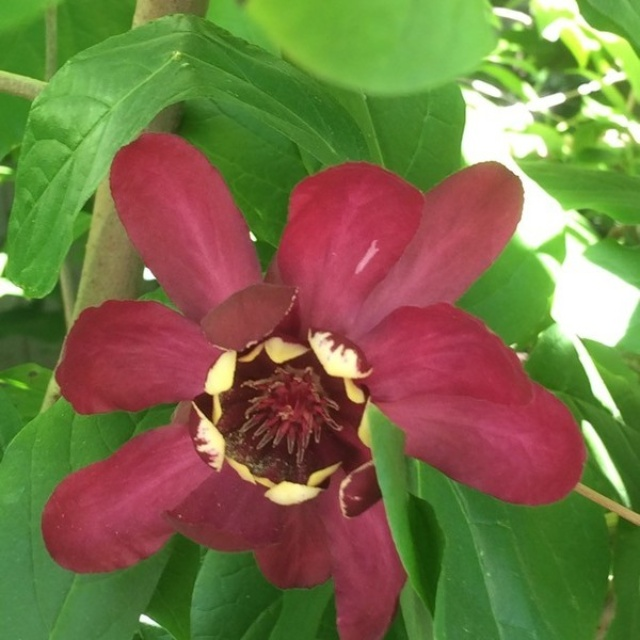obstacle: (32, 61, 517, 597)
